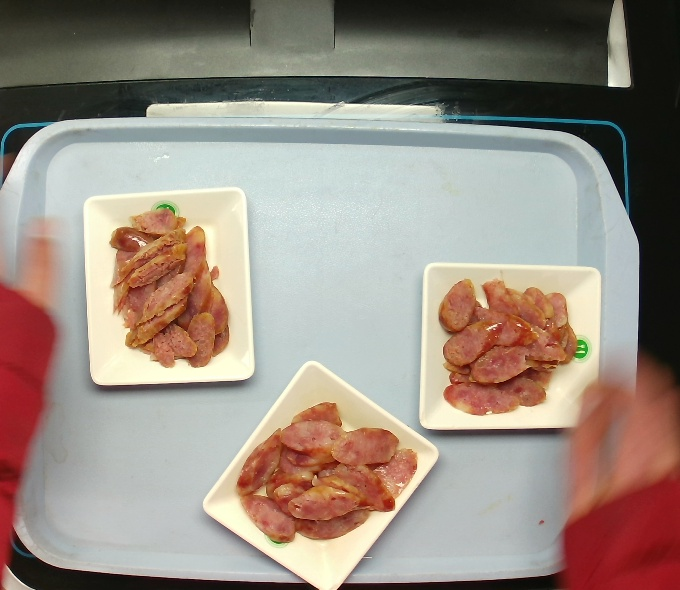wcq-QiePianXiangChang: (235, 404, 418, 545), (103, 206, 231, 371), (435, 272, 574, 416)
